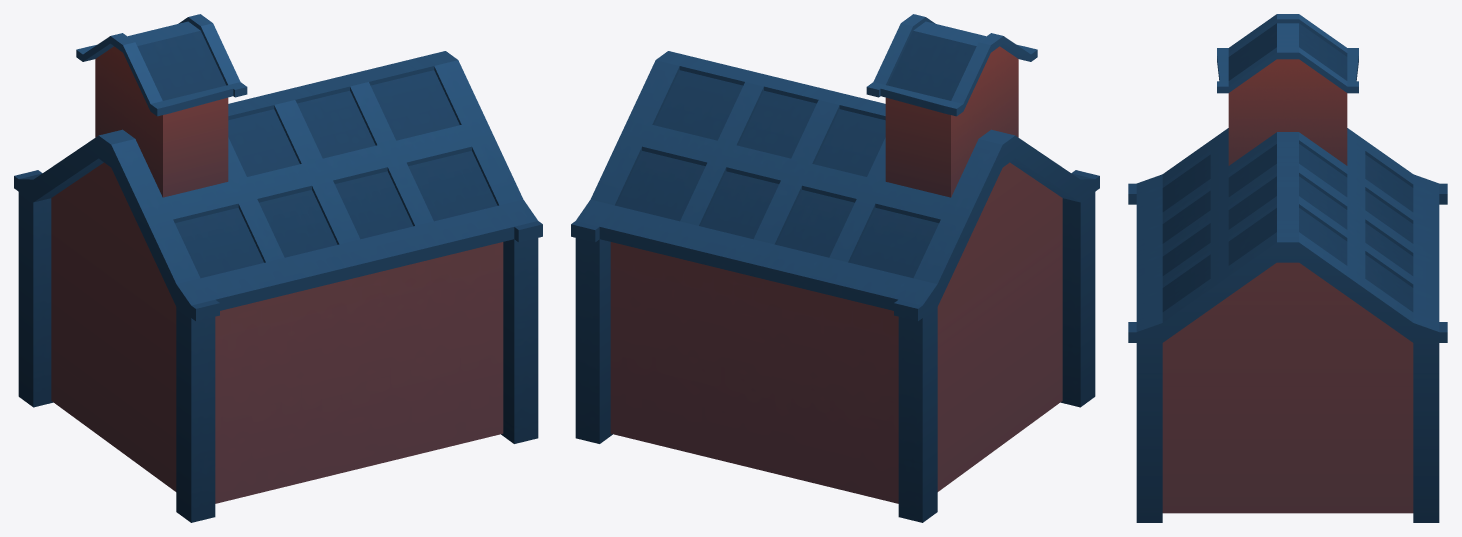
Rendered from ItemProps_House.fbx.
The picture shows the model from 3 angles, left to right: view 1: azimuth 30°, elevation 25°; view 2: azimuth 150°, elevation 25°; view 3: azimuth 270°, elevation 25°; orthographic projection. The views are drawn at different scales.
Parts seen in each view (by area): view 1: Cube.022; view 2: Cube.022; view 3: Cube.022.
Part boxes in pixels (x1,y1,x2,y2): Cube.022: (14, 14, 542, 522); Cube.022: (571, 14, 1099, 522); Cube.022: (1128, 14, 1447, 522).
Bounding box in the file's own units: 693 × 794 × 628.
